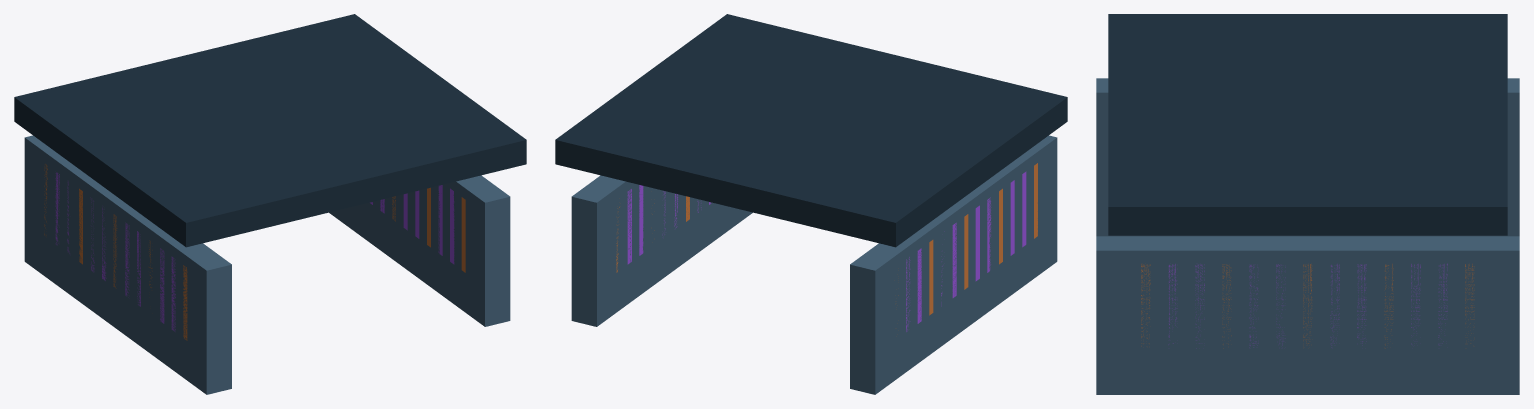
File: 20_L75_WaferChargeNeutralizationModule.fbx
The picture shows the model from 3 angles, left to right: view 1: azimuth 30°, elevation 25°; view 2: azimuth 150°, elevation 25°; view 3: azimuth 270°, elevation 25°; orthographic projection. The views are drawn at different scales.
Visible parts, largest first — view 1: WaferChargeNeutralizationModule_Part_0028, WaferChargeNeutralizationModule_Part_0000, WaferChargeNeutralizationModule_Part_0014; view 2: WaferChargeNeutralizationModule_Part_0028, WaferChargeNeutralizationModule_Part_0000, WaferChargeNeutralizationModule_Part_0014; view 3: WaferChargeNeutralizationModule_Part_0028, WaferChargeNeutralizationModule_Part_0014, WaferChargeNeutralizationModule_Part_0000.
Boxes of the visible parts, <box> form: WaferChargeNeutralizationModule_Part_0028: <box>14,14,526,247</box>; WaferChargeNeutralizationModule_Part_0000: <box>24,135,231,394</box>; WaferChargeNeutralizationModule_Part_0014: <box>329,175,510,326</box>; WaferChargeNeutralizationModule_Part_0028: <box>555,14,1067,247</box>; WaferChargeNeutralizationModule_Part_0000: <box>850,135,1057,394</box>; WaferChargeNeutralizationModule_Part_0014: <box>571,175,752,326</box>; WaferChargeNeutralizationModule_Part_0028: <box>1108,14,1507,235</box>; WaferChargeNeutralizationModule_Part_0014: <box>1096,236,1519,394</box>; WaferChargeNeutralizationModule_Part_0000: <box>1096,78,1519,236</box>.
Size of the model in its own units: 175 by 84.5 by 162.
